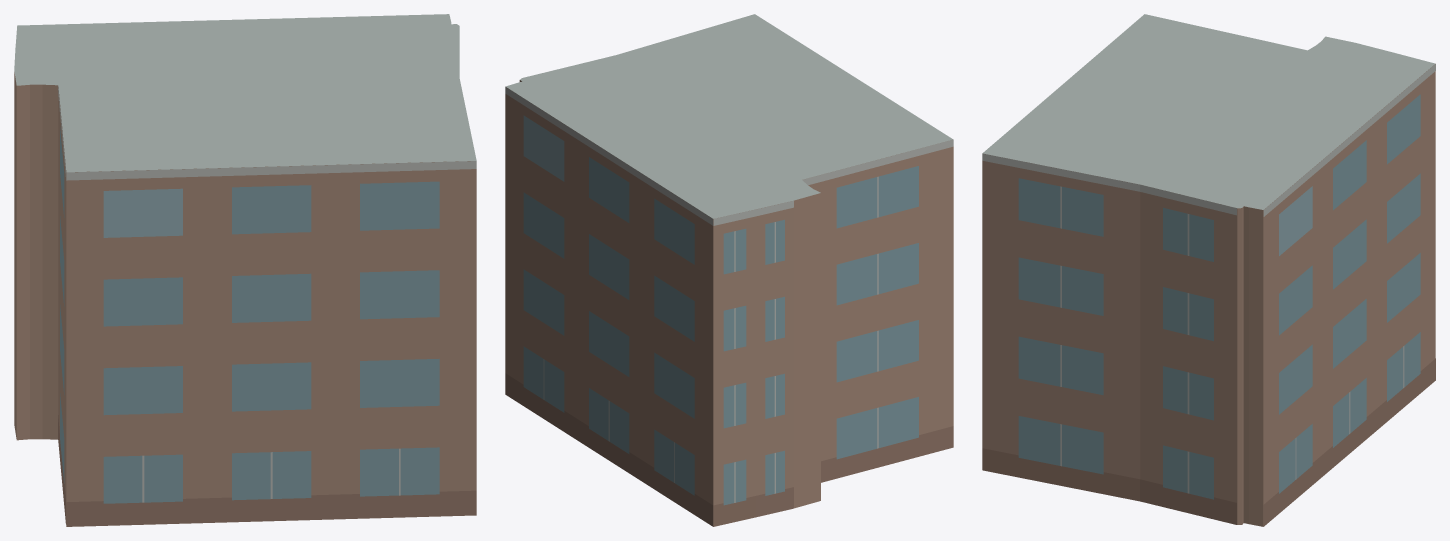
File: survey-upis-32894171.glb
The picture shows the model from 3 angles, left to right: view 1: azimuth 30°, elevation 25°; view 2: azimuth 150°, elevation 25°; view 3: azimuth 270°, elevation 25°; orthographic projection. The views are drawn at different scales.
Visible parts, largest first — view 1: survey-upis-32894171.tmp; view 2: survey-upis-32894171.tmp; view 3: survey-upis-32894171.tmp.
Boxes of the visible parts, left/top/right/bottom form: survey-upis-32894171.tmp: left=14, top=14, right=476, bottom=526; survey-upis-32894171.tmp: left=505, top=14, right=953, bottom=526; survey-upis-32894171.tmp: left=982, top=14, right=1435, bottom=526.
Bounding box in the file's own units: 14.07 × 10.6 × 13.76.
